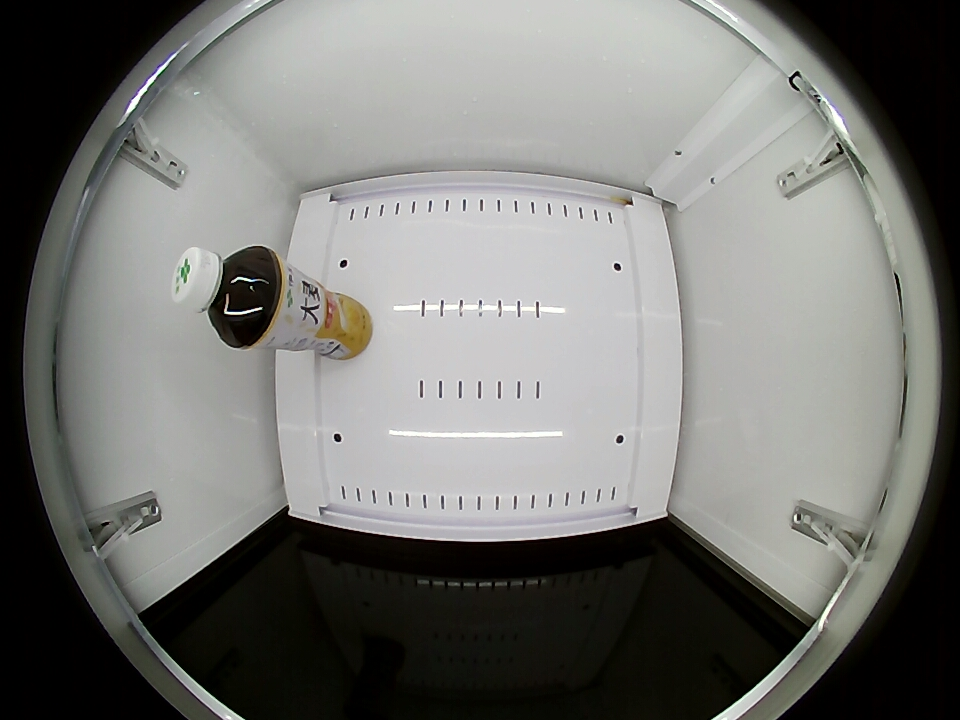damaicha: (171, 244, 280, 347)
